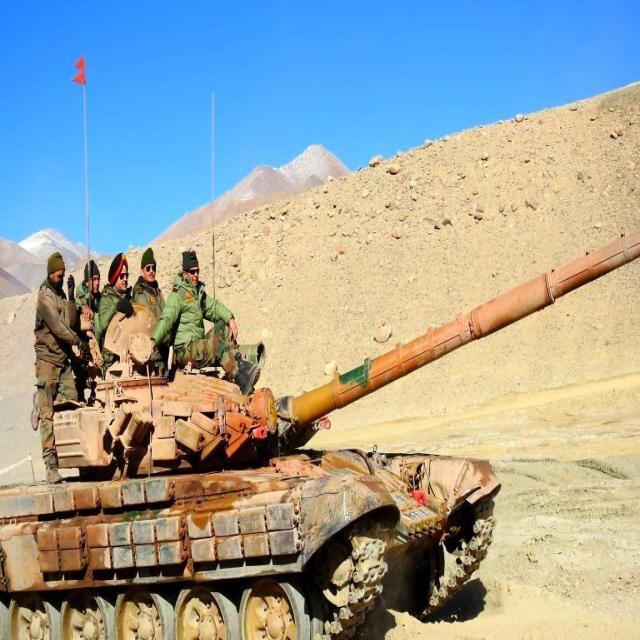Tanks: (12, 262, 508, 620)
